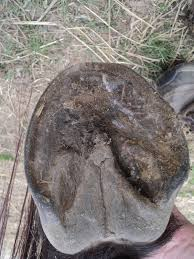horsesole: (24, 61, 191, 204)
